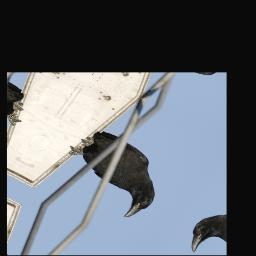Crow: (46, 121, 179, 225)
